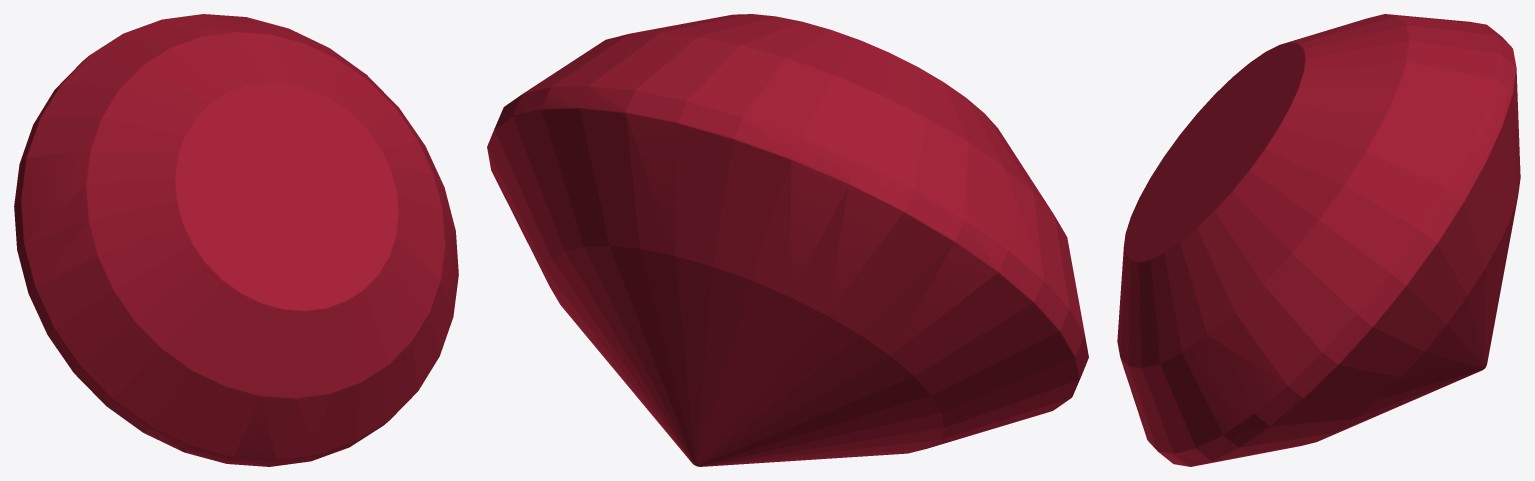
The model's file is garnet.glb.
3 views of the same model, side by side, from view 1: azimuth 30°, elevation 25°; view 2: azimuth 150°, elevation 25°; view 3: azimuth 270°, elevation 25° (orthographic). The views are drawn at different scales.
Parts seen in each view (by area): view 1: garnet.001; view 2: garnet.001; view 3: garnet.001.
Part boxes in pixels (x1,y1,x2,y2): garnet.001: (14,14,458,466); garnet.001: (487,14,1088,466); garnet.001: (1117,14,1520,466).
Size of the model in its own units: 2.1 by 1.69 by 1.57.
